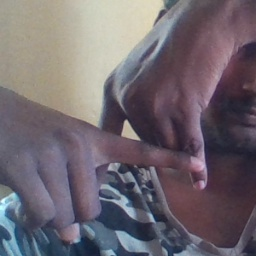H: (72, 89, 220, 205)
